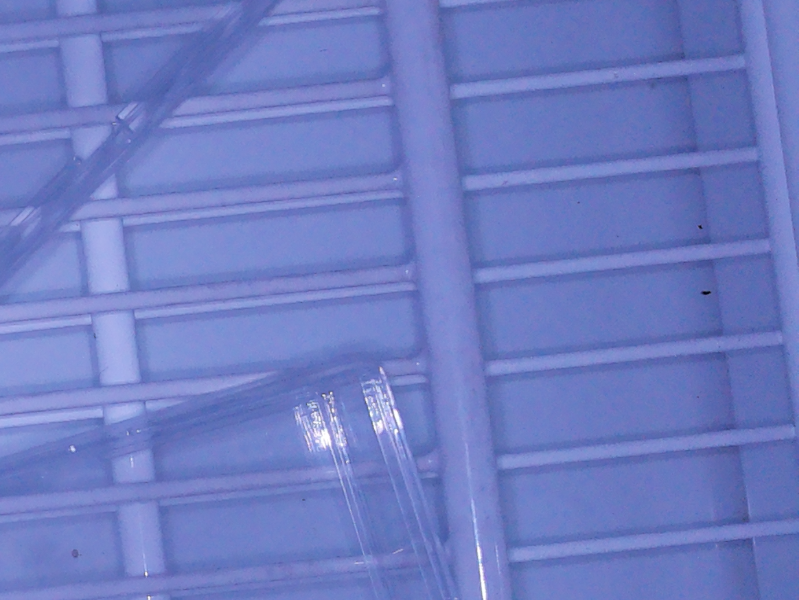plate: (1, 349, 452, 600), (1, 1, 274, 282)
